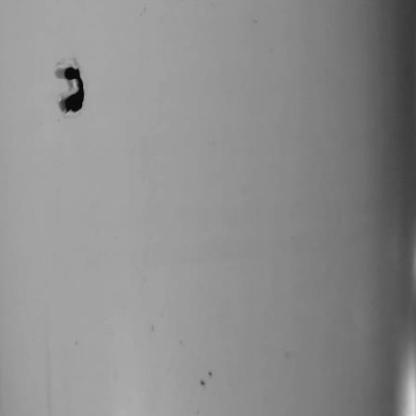kongdong: (47, 61, 92, 117)
